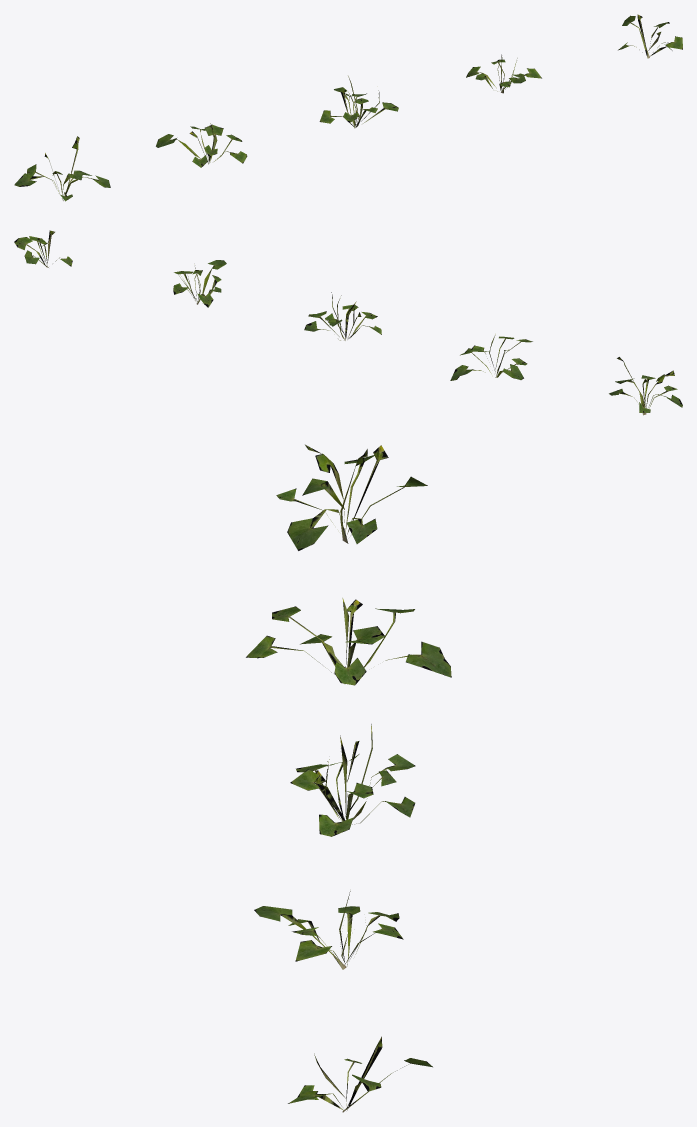
File: celandine_01.glb
3 views of the same model, one above another, from view 1: azimuth 30°, elevation 25°; view 2: azimuth 150°, elevation 25°; view 3: azimuth 270°, elevation 25° (orthographic). The views are drawn at different scales.
Parts seen in each view (by area): view 1: celandine_01_a_LOD0; view 2: celandine_01_a_LOD0; view 3: celandine_01_a_LOD0.
Part boxes in pixels (<box>): celandine_01_a_LOD0: <box>14,14,682,201</box>; celandine_01_a_LOD0: <box>14,230,682,415</box>; celandine_01_a_LOD0: <box>246,444,451,1112</box>.
Size of the model in its own units: 2.24 by 0.185 by 0.3051.
Materials: 1 (1 with a texture image).
